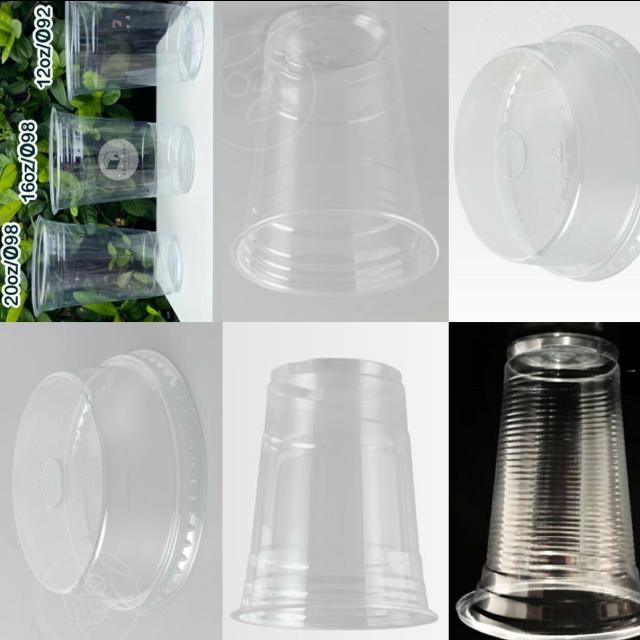plastik: (230, 3, 439, 294), (456, 333, 640, 640), (231, 357, 436, 629), (14, 349, 206, 613), (455, 25, 640, 281), (49, 107, 194, 212), (32, 216, 181, 314), (65, 0, 202, 98)
